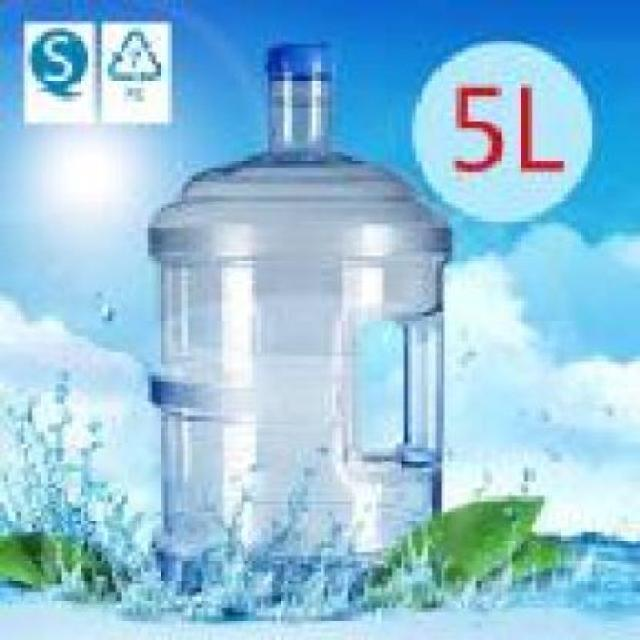coolerbottle: (140, 39, 463, 613)
